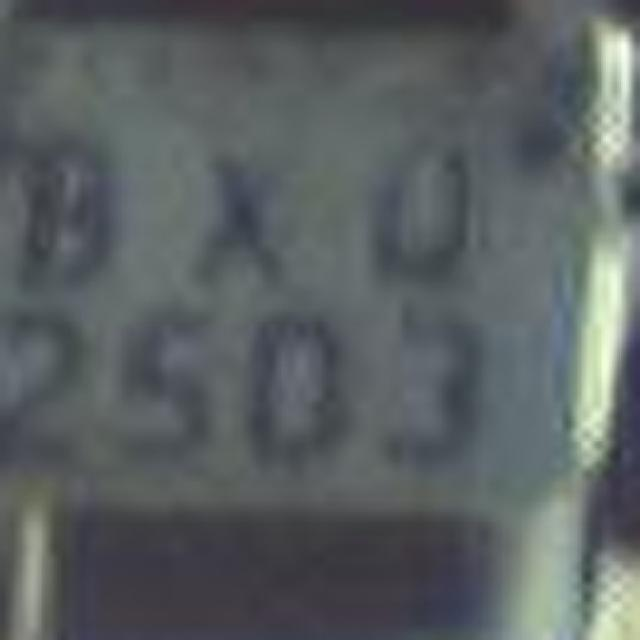0: (220, 288, 372, 484)
3: (352, 284, 512, 491)
5: (76, 296, 232, 472)
B: (0, 104, 140, 304)
U: (348, 120, 500, 300)
X: (155, 124, 320, 291)
